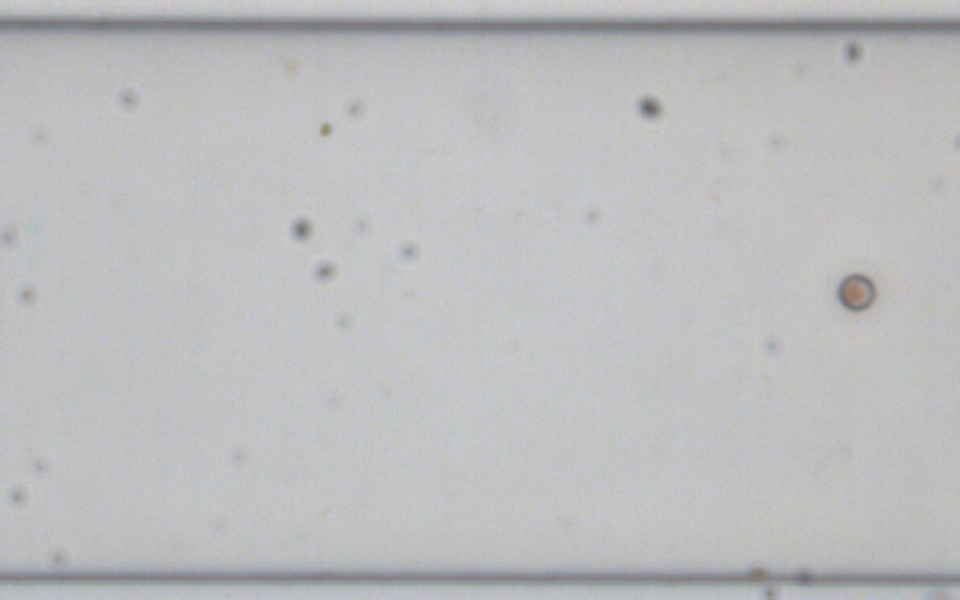Chlorella: (316, 119, 334, 137)
Porphyridium: (834, 271, 878, 312)
